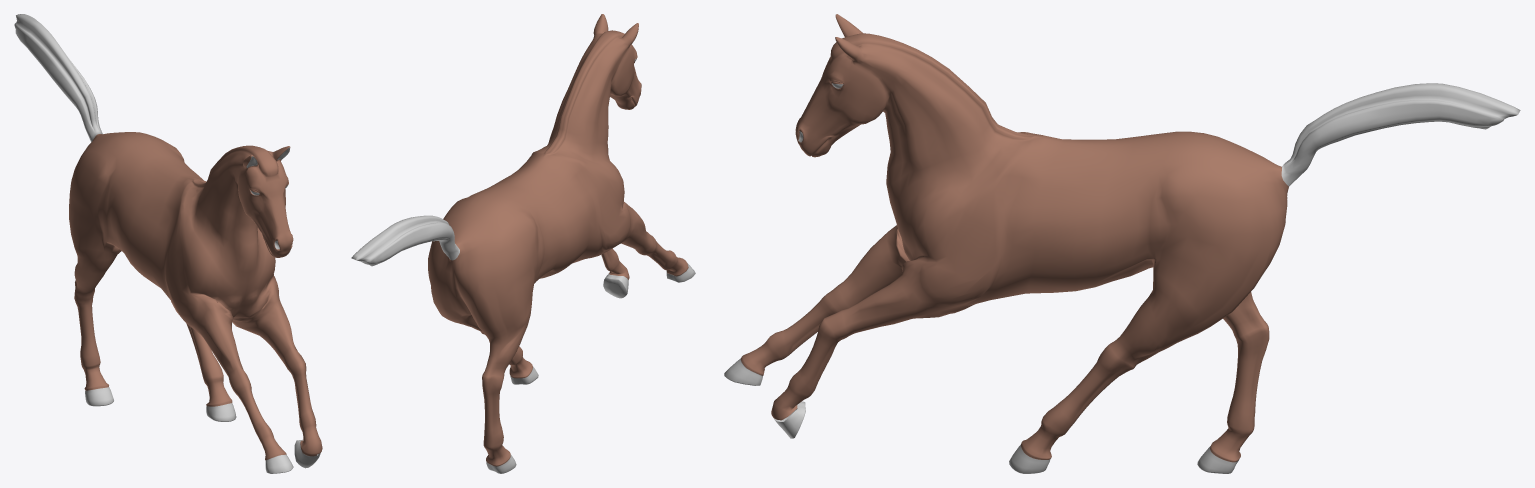
The model's file is horse_obj_9.obj.
The picture shows the model from 3 angles, left to right: view 1: azimuth 30°, elevation 25°; view 2: azimuth 150°, elevation 25°; view 3: azimuth 270°, elevation 25°; orthographic projection. The views are drawn at different scales.
Parts seen in each view (by area): view 1: Figure_1; view 2: Figure_1; view 3: Figure_1.
Boxes of the visible parts, box(x1,y1,x2,y2) form: Figure_1: box(14, 14, 322, 473); Figure_1: box(351, 14, 695, 473); Figure_1: box(724, 14, 1520, 473).
Size of the model in its own units: 0.2421 by 0.8439 by 1.33.
